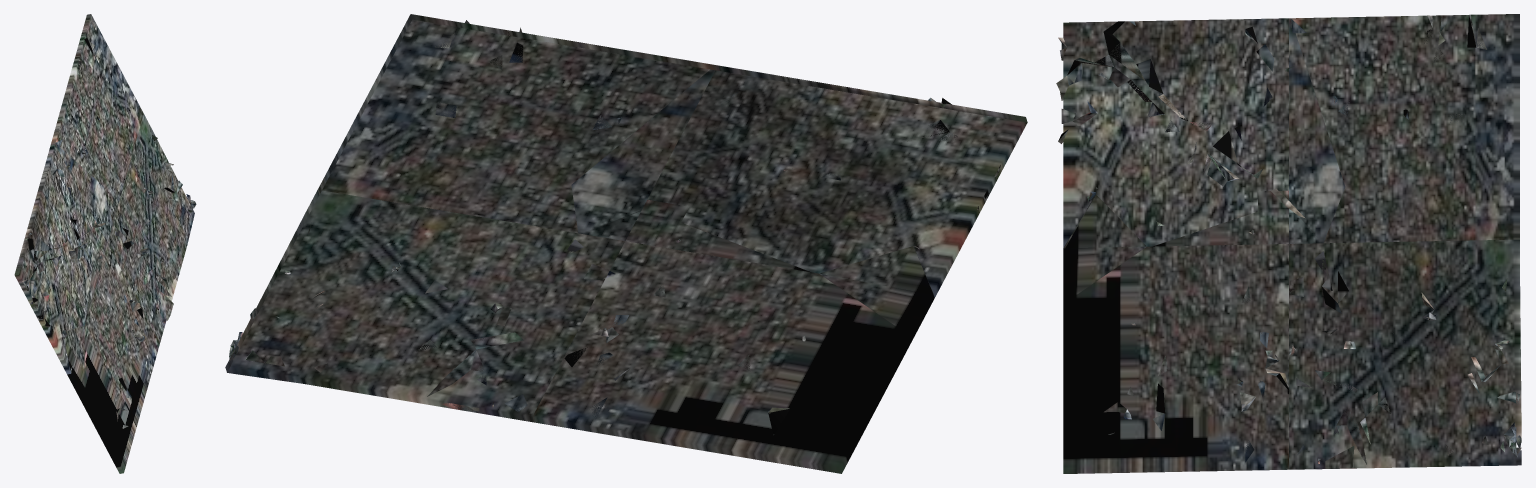
The picture shows the model from 3 angles, left to right: view 1: azimuth 30°, elevation 25°; view 2: azimuth 150°, elevation 25°; view 3: azimuth 270°, elevation 25°; orthographic projection. The views are drawn at different scales.
Visible parts, largest first — view 1: node_30436272704360_mesh0; view 2: node_30436272704360_mesh0; view 3: node_30436272704360_mesh0.
Part boxes in pixels (left/top/right/bottom): node_30436272704360_mesh0: left=14, top=14, right=196, bottom=473; node_30436272704360_mesh0: left=225, top=14, right=1027, bottom=473; node_30436272704360_mesh0: left=1056, top=14, right=1521, bottom=473.
Size of the model in its own units: 2318 by 2331 by 1801.
1 material, 1 textured.
